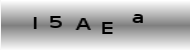5: (47, 15, 62, 29)
A: (74, 17, 92, 32)
E: (101, 21, 113, 35)
a: (132, 13, 145, 24)
l: (32, 16, 37, 31)
